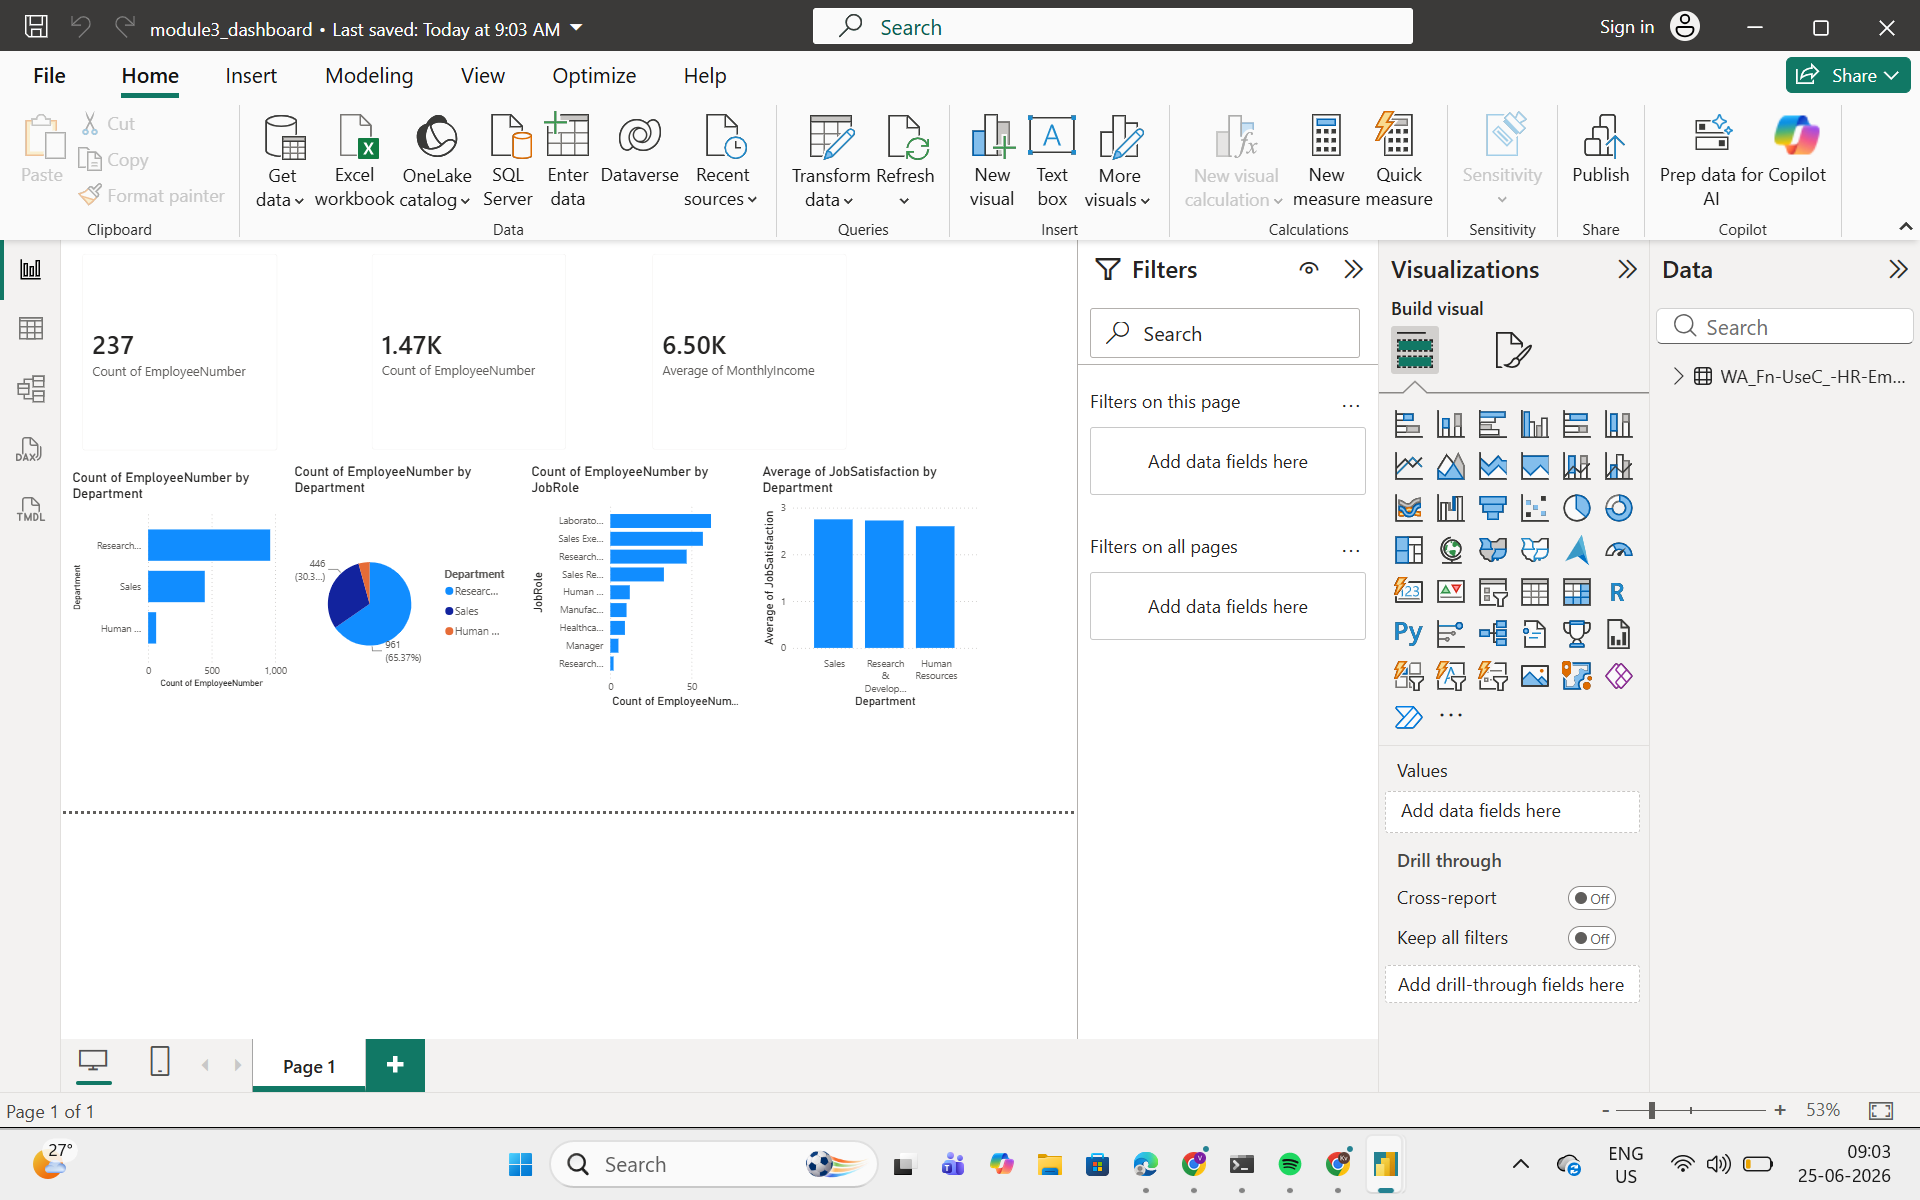

What the dashboard file says about the page in this screenshot:
{"tool":"powerbi","page":{"name":"Page 1","canvas":[1280,720],"ordinal":0},"visuals":[{"type":"cardVisual","fields":{"Data":["CountNonNull(WA_Fn-UseC_-HR-Employee-Attrition.EmployeeNumber)"]},"box":[374.2,0,279.7,281.6],"z":0},{"type":"cardVisual","fields":{"Data":["Avg(WA_Fn-UseC_-HR-Employee-Attrition.MonthlyIncome)"]},"box":[727.6,0,279.7,281.6],"z":1000},{"type":"clusteredBarChart","fields":{"Category":["WA_Fn-UseC_-HR-Employee-Attrition.Department"],"Y":["CountNonNull(WA_Fn-UseC_-HR-Employee-Attrition.EmployeeNumber)"]},"box":[10,290,280,280],"z":2000},{"type":"pieChart","fields":{"Y":["CountNonNull(WA_Fn-UseC_-HR-Employee-Attrition.EmployeeNumber)"],"Category":["WA_Fn-UseC_-HR-Employee-Attrition.Department"]},"box":[289.1,281.6,279.7,311.8],"z":3000},{"type":"cardVisual","fields":{"Data":["CountNonNull(WA_Fn-UseC_-HR-Employee-Attrition.EmployeeNumber)"]},"box":[10,0,280,282],"z":4000},{"type":"clusteredBarChart","fields":{"Y":["CountNonNull(WA_Fn-UseC_-HR-Employee-Attrition.EmployeeNumber)"],"Category":["WA_Fn-UseC_-HR-Employee-Attrition.JobRole"]},"box":[587.7,281.6,279.7,311.8],"z":5000},{"type":"clusteredColumnChart","fields":{"Category":["WA_Fn-UseC_-HR-Employee-Attrition.Department"],"Y":["Avg(WA_Fn-UseC_-HR-Employee-Attrition.JobSatisfaction)"]},"box":[878,282,280,312],"z":6000}]}

Visuals, with their boxes on the page's 1280x720 design canvas (x1, y1, x2, y2). These are canvas units, not pixel positions in the 1920x1200 screenshot, which may show the page scaled, cropped or inside an application window:
cardVisual - CountNonNull(WA_Fn-UseC_-HR-Employee-Attrition.EmployeeNumber): <box>374,0,654,282</box>
cardVisual - Avg(WA_Fn-UseC_-HR-Employee-Attrition.MonthlyIncome): <box>728,0,1007,282</box>
clusteredBarChart - WA_Fn-UseC_-HR-Employee-Attrition.Department x CountNonNull(WA_Fn-UseC_-HR-Employee-Attrition.EmployeeNumber): <box>10,290,290,570</box>
pieChart - CountNonNull(WA_Fn-UseC_-HR-Employee-Attrition.EmployeeNumber) x WA_Fn-UseC_-HR-Employee-Attrition.Department: <box>289,282,569,593</box>
cardVisual - CountNonNull(WA_Fn-UseC_-HR-Employee-Attrition.EmployeeNumber): <box>10,0,290,282</box>
clusteredBarChart - CountNonNull(WA_Fn-UseC_-HR-Employee-Attrition.EmployeeNumber) x WA_Fn-UseC_-HR-Employee-Attrition.JobRole: <box>588,282,867,593</box>
clusteredColumnChart - WA_Fn-UseC_-HR-Employee-Attrition.Department x Avg(WA_Fn-UseC_-HR-Employee-Attrition.JobSatisfaction): <box>878,282,1158,594</box>
